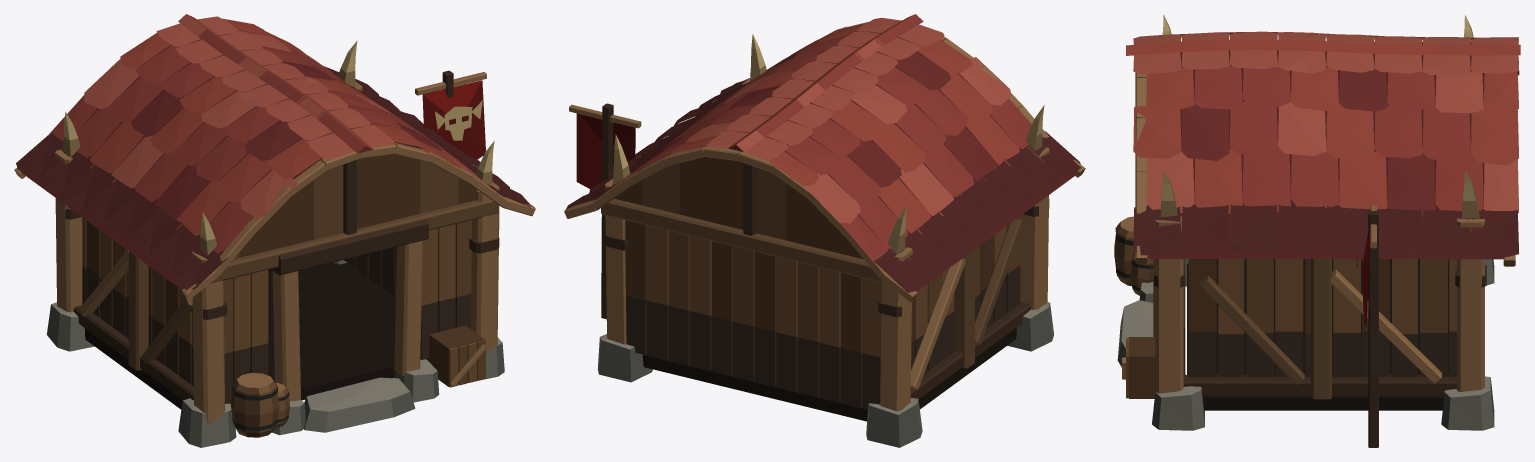
The model's file is timber-hut-01.obj.
3 renders of one model, left to right at view 1: azimuth 30°, elevation 25°; view 2: azimuth 150°, elevation 25°; view 3: azimuth 270°, elevation 25°, orthographic. The views are drawn at different scales.
Visible parts, largest first — view 1: interior_floor, entrance_step, corner_post_-1_1.99, gable_tie_2.07, entrance_right, corner_post_1_1.99, entrance_left, entrance_lintel, corner_post_-1_-1.76, roof_underlay, entrance_barrel, tribe_banner (+78 smaller); view 2: gable_tie_-1.97, interior_floor, corner_post_-1_-1.76, back_slat_1, back_slat_5, back_slat_3, back_slat_7, back_slat_9, back_slat_2, back_slat_6, back_slat_10, back_slat_4 (+73 smaller); view 3: interior_floor, side_lower_sill_1, roof_underlay, corner_post_1_1.99, corner_post_1_-1.76, side_slat_1_9, side_slat_1_1, side_slat_1_6, side_mid_post_1, side_slat_1_4, side_slat_1_7, side_slat_1_8 (+67 smaller).
Boxes of the visible parts, x1,y1,x2,y2 form: interior_floor: (84,262,429,409); entrance_step: (304,377,415,432); corner_post_-1_1.99: (192,250,225,423); gable_tie_2.07: (211,200,498,282); entrance_right: (394,240,422,375); corner_post_1_1.99: (470,182,499,353); entrance_left: (272,271,300,401); entrance_lintel: (271,220,428,275); corner_post_-1_-1.76: (55,149,82,312); roof_underlay: (21,30,506,289); entrance_barrel: (230,373,279,437); tribe_banner: (422,80,485,163); gable_tie_-1.97: (601,198,885,283); interior_floor: (642,327,1016,421); corner_post_-1_-1.76: (880,247,912,411); back_slat_1: (840,273,862,407); back_slat_5: (754,252,776,386); back_slat_3: (797,262,819,396); back_slat_7: (711,241,732,375); back_slat_9: (668,231,689,365); back_slat_2: (819,267,840,402); back_slat_6: (733,246,754,381); back_slat_10: (647,225,668,360); back_slat_4: (776,257,797,391); interior_floor: (1187,259,1449,410); side_lower_sill_1: (1183,375,1456,396); roof_underlay: (1147,42,1503,259); corner_post_1_1.99: (1155,216,1183,393); corner_post_1_-1.76: (1457,218,1484,392); side_slat_1_9: (1188,259,1216,376); side_slat_1_1: (1420,259,1447,376); side_slat_1_6: (1275,259,1303,376); side_mid_post_1: (1311,259,1331,399); side_slat_1_4: (1333,259,1360,376); side_slat_1_7: (1246,259,1273,376); side_slat_1_8: (1218,259,1244,376).
Size of the model in its own units: 6.47 by 4.23 by 5.06.
